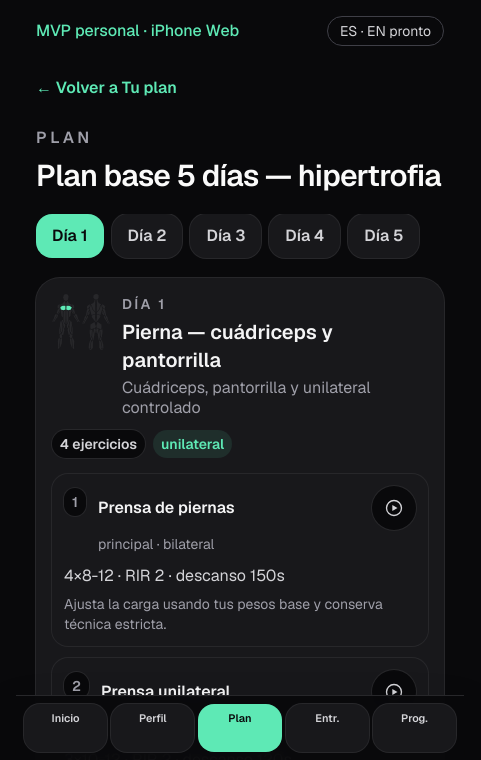
Test: PlanDetailContent › shows the day's body-map thumbnail and swaps it when the day changes
Expected: the picture named "Entrena Pecho" is shown, x1=52 y1=294 x2=110 y2=350
Step 1. Click the tab "Día 2" → x=147, y=236, box x1=112 y1=214 x2=182 y2=258
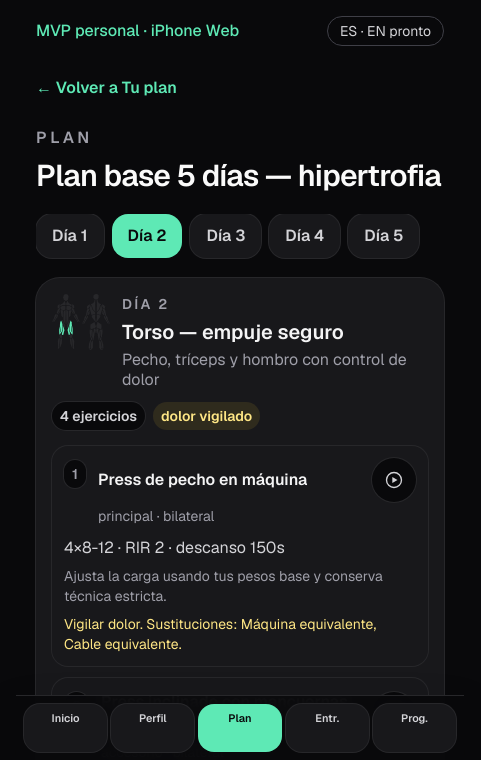
Now the picture named "Entrena Cuádriceps" is shown, box x1=52 y1=294 x2=110 y2=350
